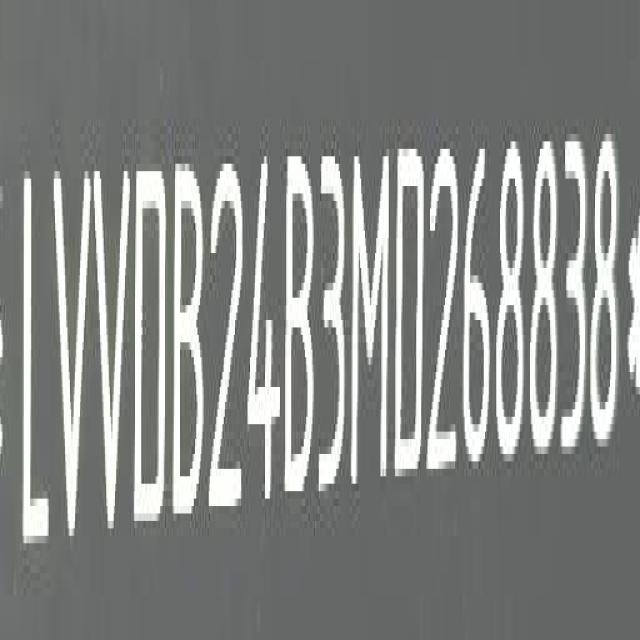2: (210, 162, 247, 525), (429, 145, 462, 483)
3: (318, 148, 348, 502), (561, 133, 588, 459)
4: (248, 154, 282, 516)
6: (461, 142, 491, 477)
8: (529, 135, 560, 458), (498, 143, 528, 463), (594, 129, 622, 450)
B: (174, 161, 210, 532), (286, 149, 319, 505)
D: (132, 162, 168, 538), (396, 147, 428, 486)
L: (18, 165, 52, 564)
M: (351, 145, 390, 488)
V: (51, 166, 91, 555), (94, 159, 134, 543)
